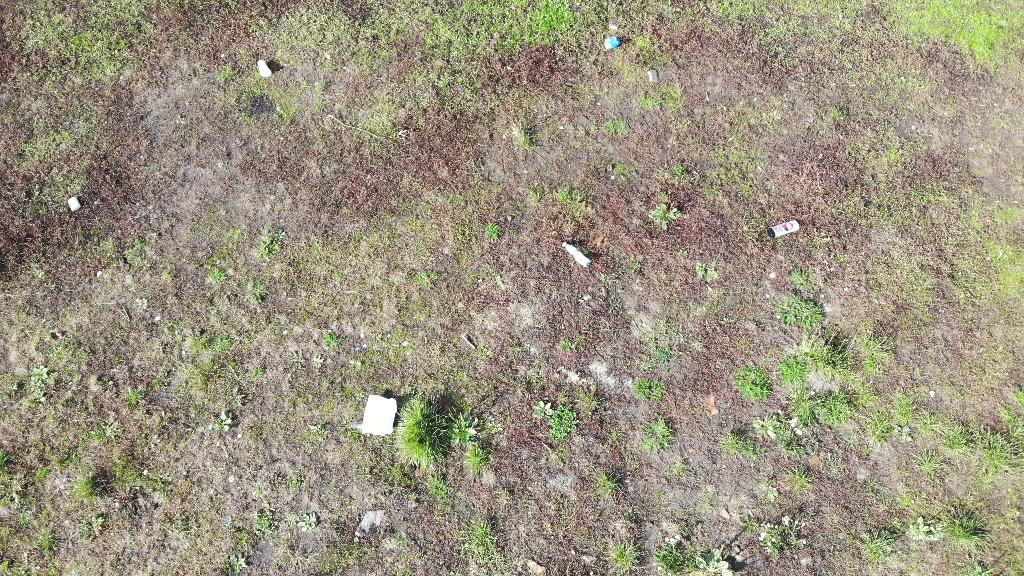garbage: (361, 391, 397, 444), (563, 241, 597, 272)
